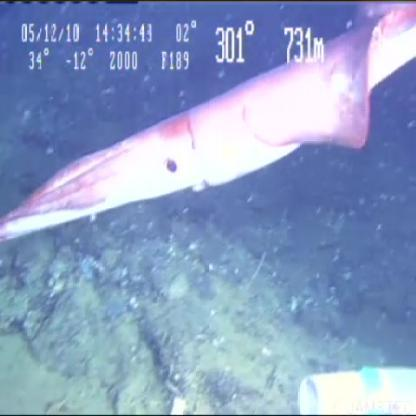Bio: (0, 1, 416, 243)
